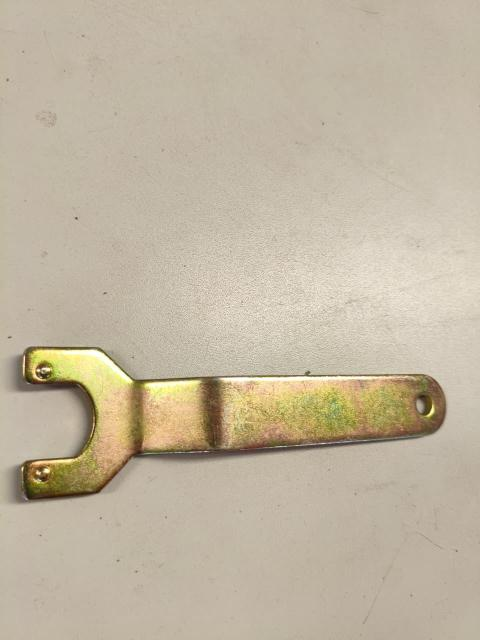Metal: (23, 347, 448, 503)
